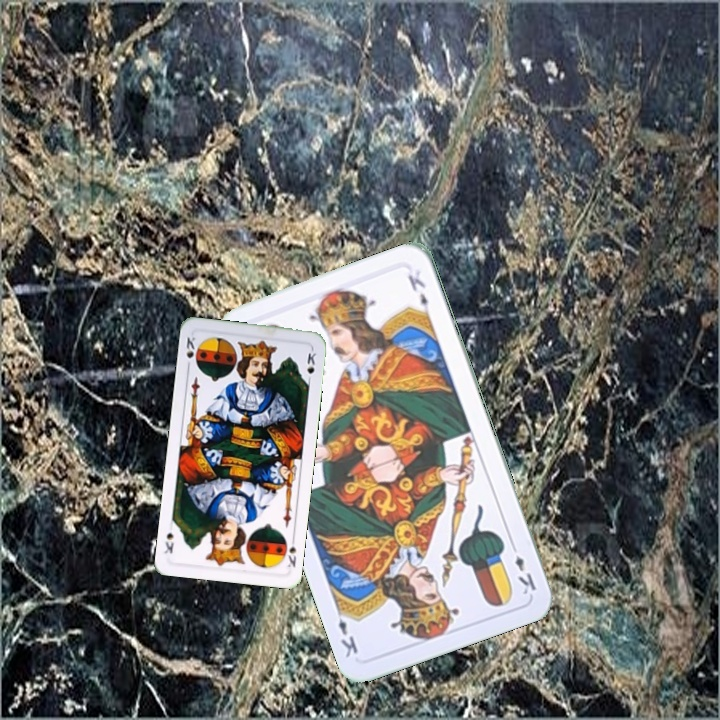EK: (506, 539, 539, 597)
SK: (182, 332, 198, 372), (283, 532, 299, 570)
